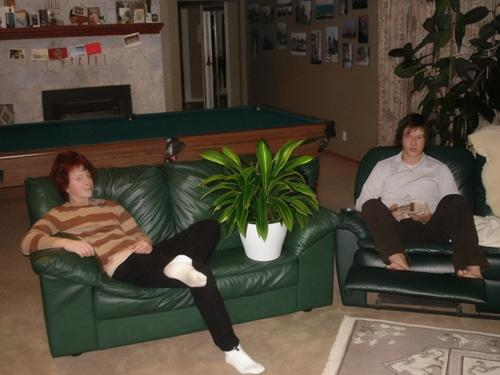person: (20, 151, 266, 375), (355, 117, 487, 282)
person/foot: (164, 264, 207, 287), (225, 350, 265, 374), (384, 263, 411, 270), (462, 271, 482, 278)
person/hand: (64, 240, 94, 257), (411, 204, 431, 223), (388, 203, 404, 222), (132, 239, 152, 254)
person/head: (57, 153, 93, 197), (400, 119, 429, 156)
pottedplant: (195, 140, 320, 264)
sofa: (22, 146, 344, 364), (336, 144, 500, 313)
